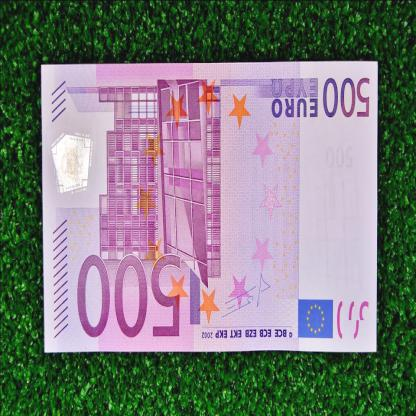euro_banknote: (43, 65, 380, 353)
